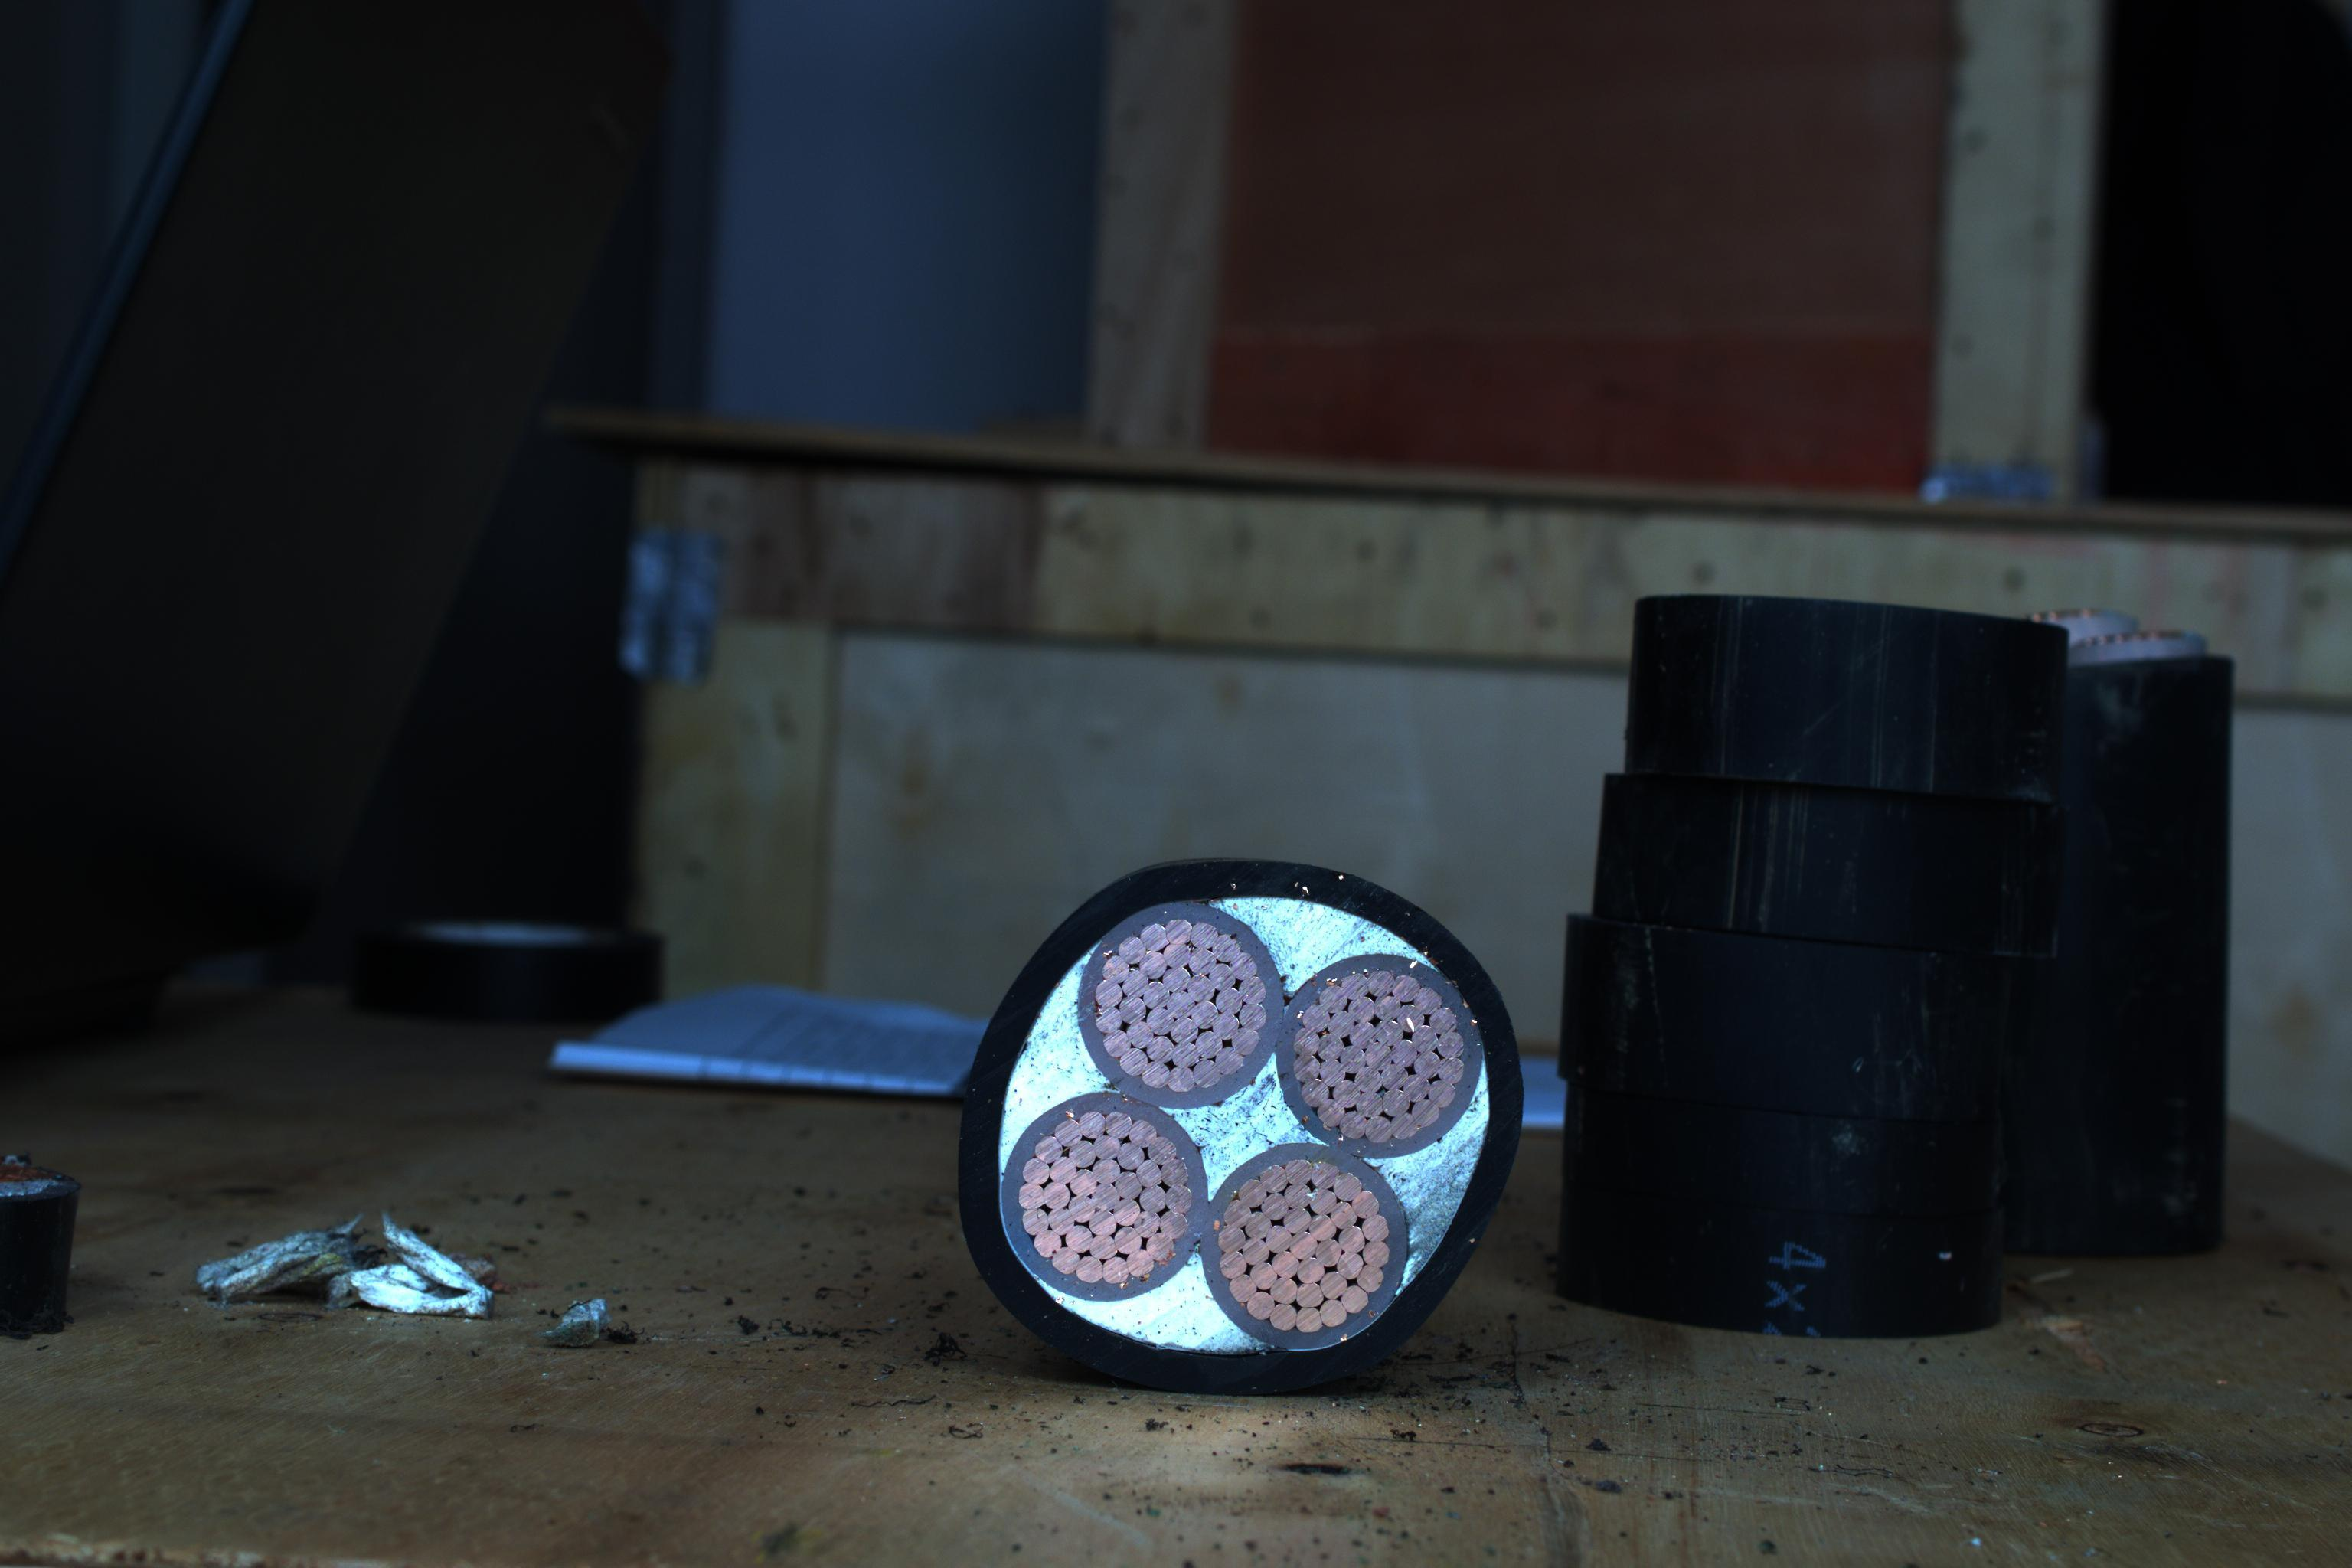YJV_0.6_1kV_4x240: (987, 863, 1531, 1365)
